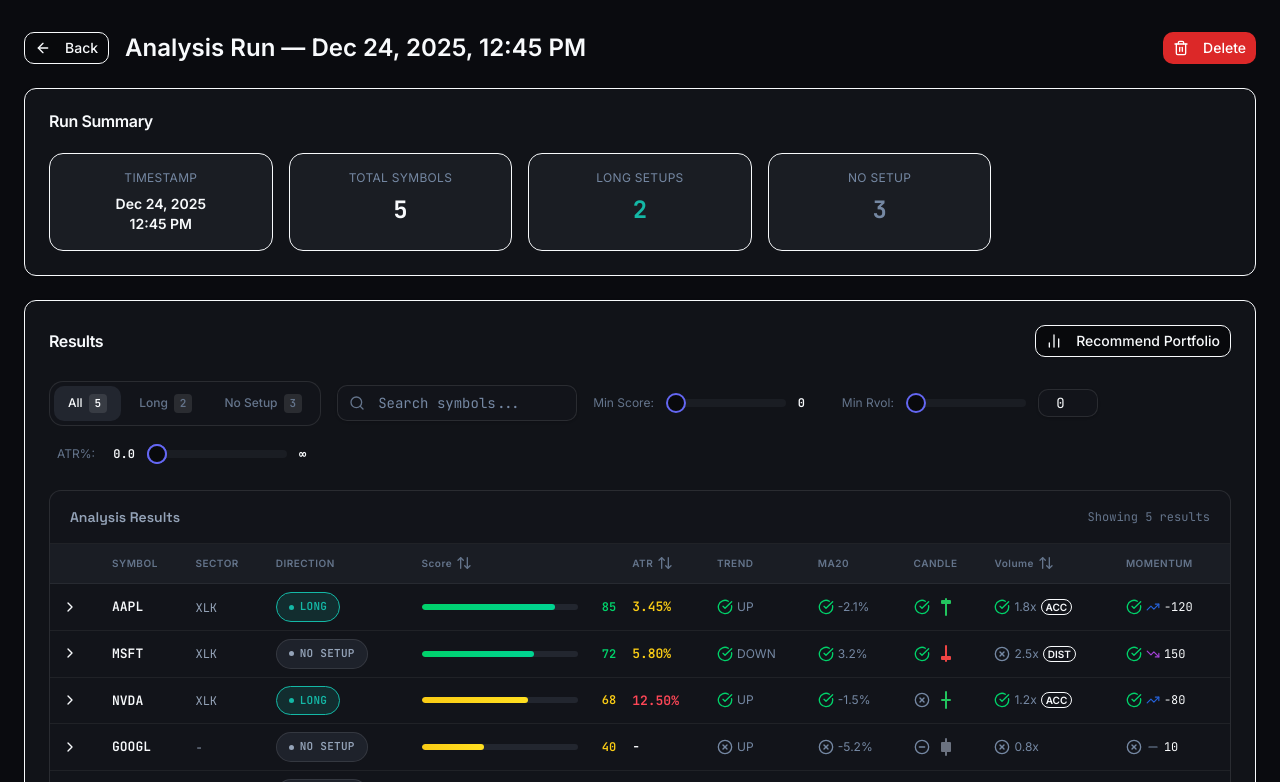
Scenario: Live20RunDetail › Success State › combines multiple filters
Expected: the text "AAPL" is shown, [112,598,143,615]
# Filter by LONG direction - button accessible name is "Long 2" (label + count)
Click the button "Long 2": (166, 403) [125,386,206,421]
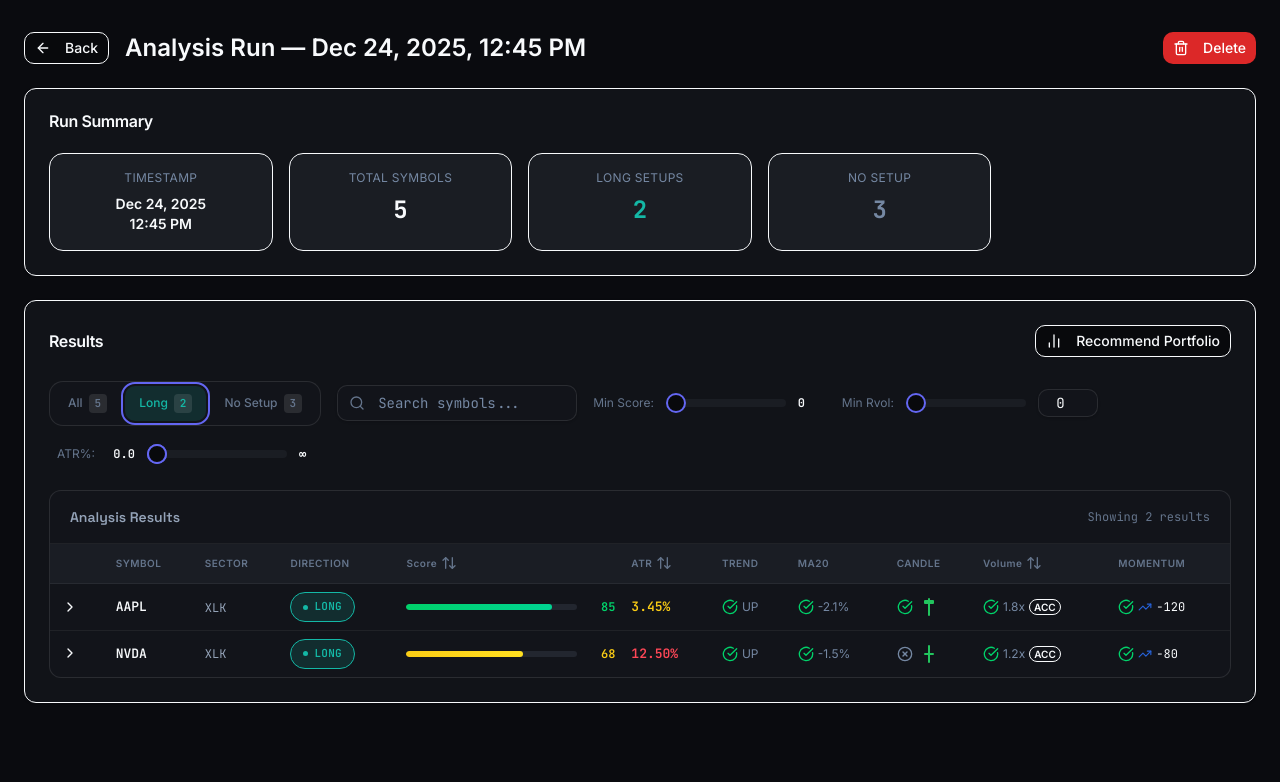
# Add search filter
In the field with placeholder "Search symbols...": (457, 403) [337,385,577,421], type "NV"
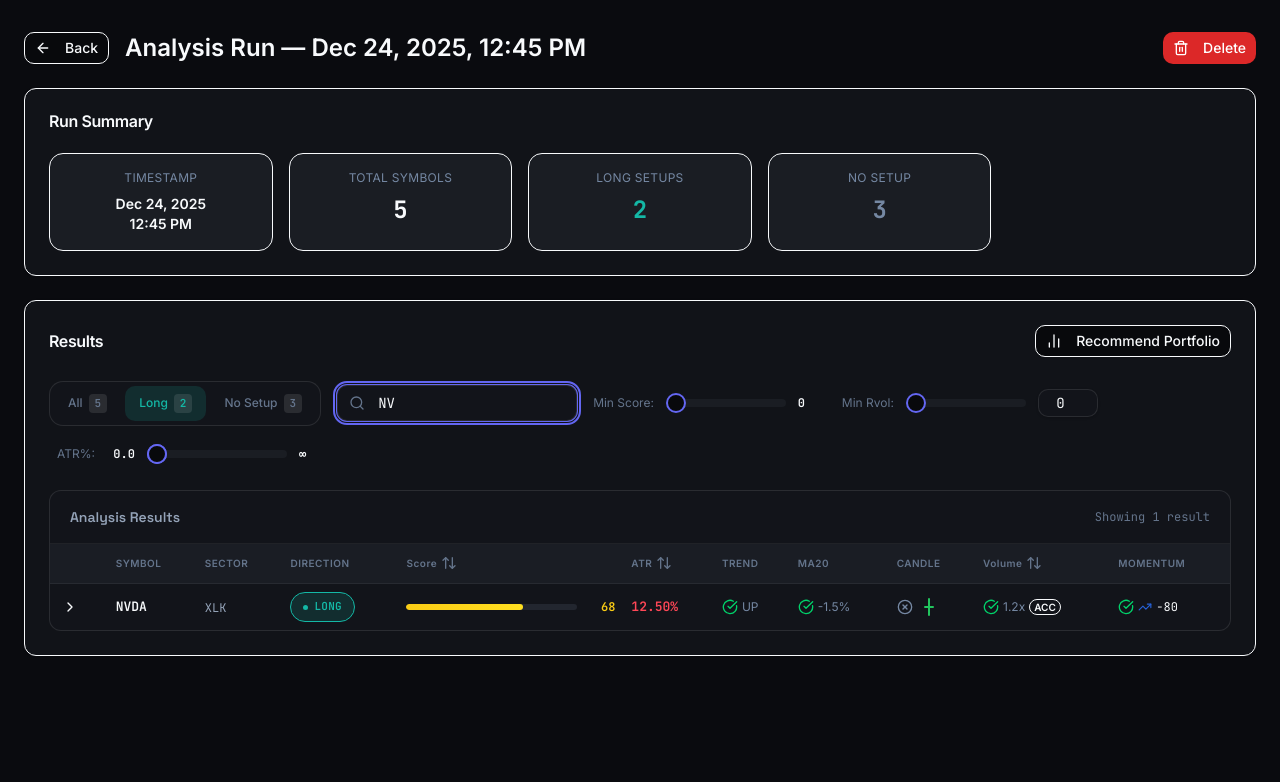
Expected: the text "MSFT" is not shown
Now the text "NVDA" is shown, box [116,598,147,615]
Now the text "AAPL" is gone
